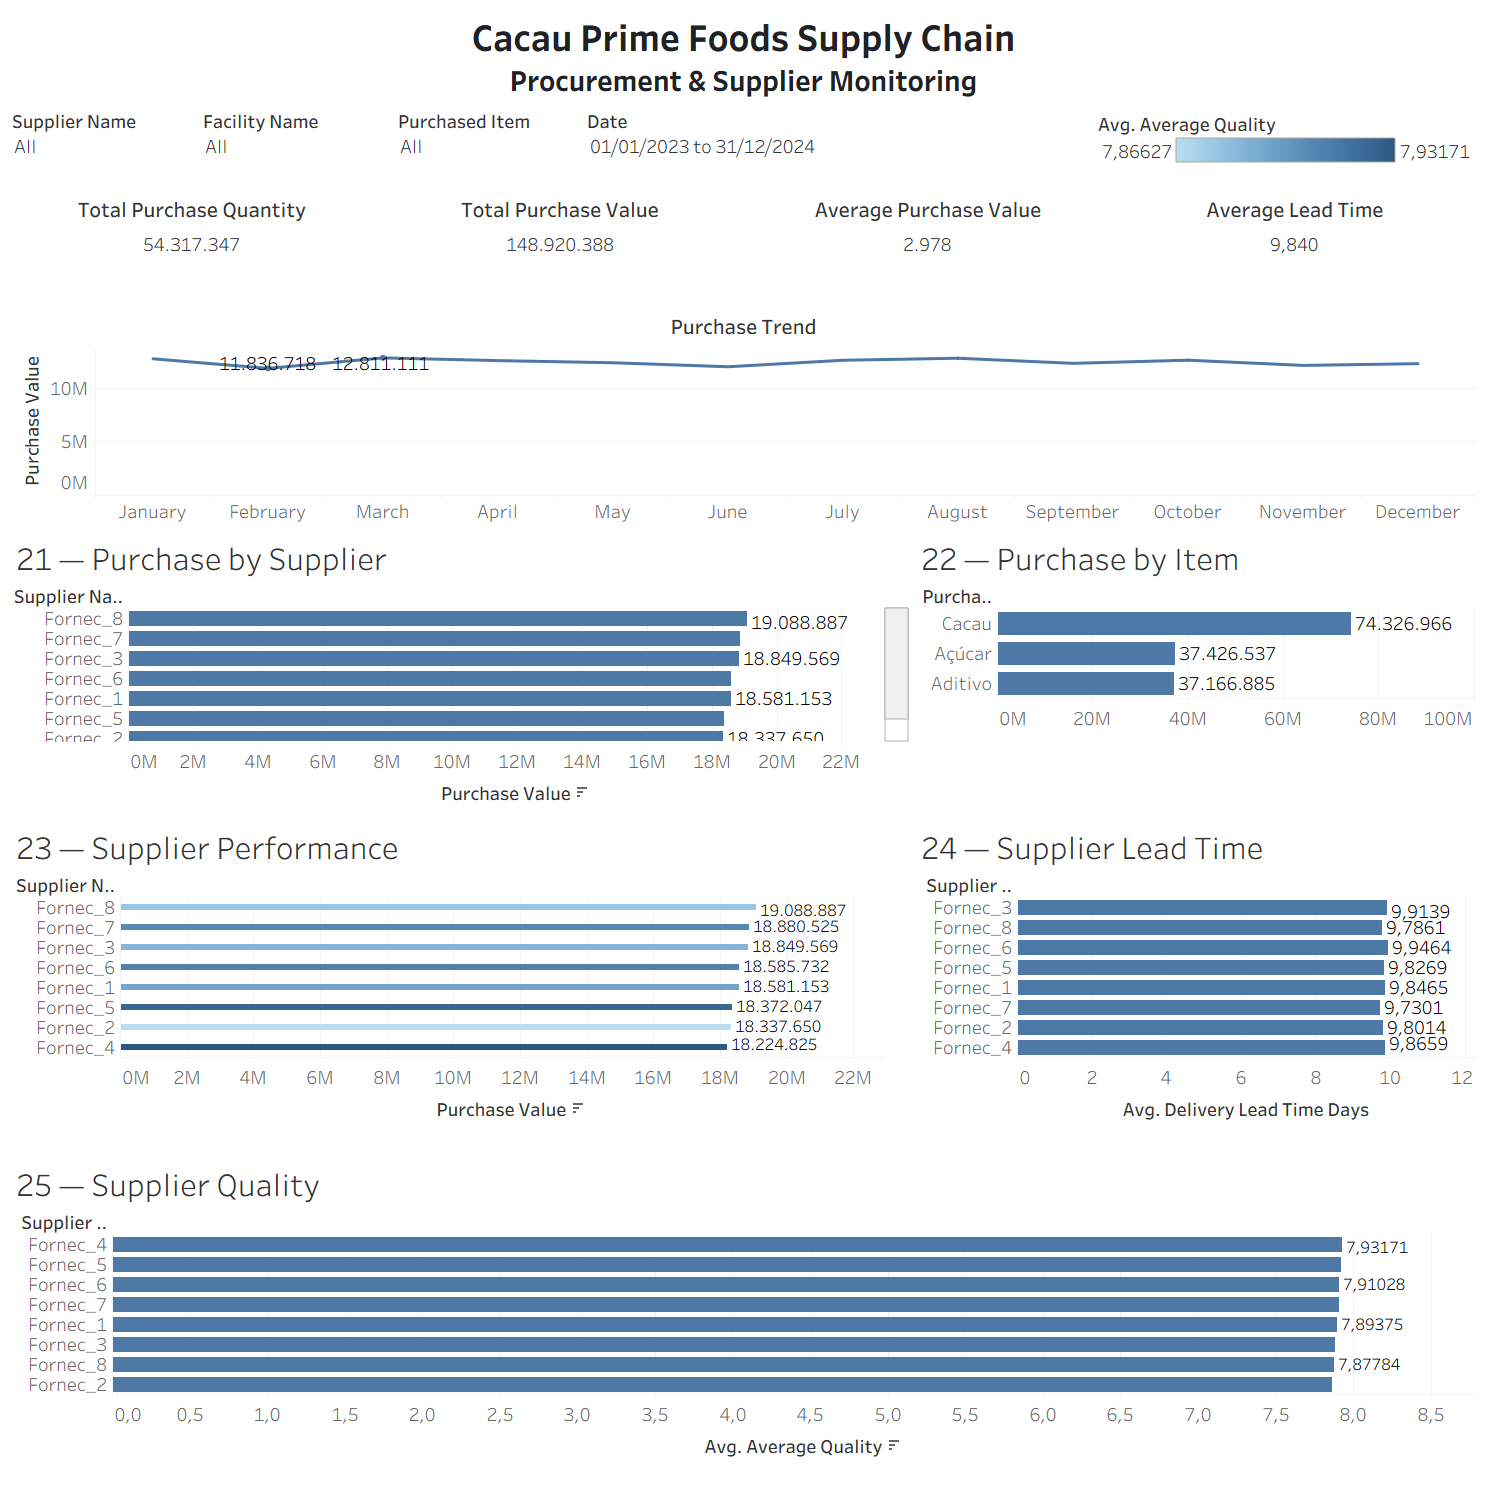

The dashboard page shown, as its layout file describes it:
{"tool":"tableau","page":{"name":"03 ","canvas":[1487,1500],"ordinal":2},"visuals":[{"type":"title","box":[8,8,1471,95]},{"type":"filter","title":"20 — Purchase Trend","param":"[federated.1t2vwwv1k57fkm1fkg0gp04vizdd].[none:Supplier Name:nk]","box":[8,103,191,81]},{"type":"filter","title":"20 — Purchase Trend","param":"[federated.1t2vwwv1k57fkm1fkg0gp04vizdd].[none:Facility Name:nk]","box":[199,103,195,81]},{"type":"filter","title":"20 — Purchase Trend","param":"[federated.1t2vwwv1k57fkm1fkg0gp04vizdd].[none:purchased_item:nk]","box":[394,103,189,81]},{"type":"filter","title":"20 — Purchase Trend","param":"[federated.1t2vwwv1k57fkm1fkg0gp04vizdd].[none:Date:qk]","box":[583,103,511,81]},{"type":"legend","title":"23 — Supplier Performance","param":"[federated.1t2vwwv1k57fkm1fkg0gp04vizdd].[avg:average_quality:qk]","box":[1094,103,385,81]},{"type":"worksheet","title":"16 — KPI Total Purchase Quantity","mark":"Automatic","box":[8,184,367.7,117]},{"type":"worksheet","title":"17 — KPI Total Purchase Value","mark":"Automatic","box":[375.8,184,367.7,117]},{"type":"worksheet","title":"18 — KPI Average Purchase Value","mark":"Automatic","box":[743.5,184,367.7,117]},{"type":"worksheet","title":"19 — KPI Average Lead Time","mark":"Automatic","box":[1111.2,184,367.7,117]},{"type":"worksheet","title":"20 — Purchase Trend","mark":"Automatic","rows":["purchase_value"],"cols":["Date"],"box":[8,301,1471,226]},{"type":"worksheet","title":"21 — Purchase by Supplier","mark":"Automatic","rows":["Supplier Name"],"cols":["purchase_value"],"box":[8,527,905,289]},{"type":"worksheet","title":"22 — Purchase by Item","mark":"Automatic","rows":["purchased_item"],"cols":["purchase_value"],"box":[913,527,566,289]},{"type":"worksheet","title":"23 — Supplier Performance","mark":"Bar","rows":["Supplier Name"],"cols":["purchase_value"],"box":[8,816,905,337]},{"type":"worksheet","title":"24 — Supplier Lead Time","mark":"Automatic","rows":["Supplier Name"],"cols":["delivery_lead_time_days"],"box":[913,816,566,337]},{"type":"worksheet","title":"25 — Supplier Quality","mark":"Automatic","rows":["Supplier Name"],"cols":["average_quality"],"box":[8,1153,1471,339]}]}

Visuals, with their boxes in screenshot pixels (x1, y1, x2, y2), scaled from the page's 1487x1500 canvas onto the 1487x1500 screenshot:
title: <box>8,8,1479,103</box>
"20 — Purchase Trend" filter: <box>8,103,199,184</box>
"20 — Purchase Trend" filter: <box>199,103,394,184</box>
"20 — Purchase Trend" filter: <box>394,103,583,184</box>
"20 — Purchase Trend" filter: <box>583,103,1094,184</box>
"23 — Supplier Performance" legend: <box>1094,103,1479,184</box>
"16 — KPI Total Purchase Quantity" worksheet: <box>8,184,376,301</box>
"17 — KPI Total Purchase Value" worksheet: <box>376,184,744,301</box>
"18 — KPI Average Purchase Value" worksheet: <box>744,184,1111,301</box>
"19 — KPI Average Lead Time" worksheet: <box>1111,184,1479,301</box>
"20 — Purchase Trend" worksheet: <box>8,301,1479,527</box>
"21 — Purchase by Supplier" worksheet: <box>8,527,913,816</box>
"22 — Purchase by Item" worksheet: <box>913,527,1479,816</box>
"23 — Supplier Performance" worksheet (Bar marks): <box>8,816,913,1153</box>
"24 — Supplier Lead Time" worksheet: <box>913,816,1479,1153</box>
"25 — Supplier Quality" worksheet: <box>8,1153,1479,1492</box>
